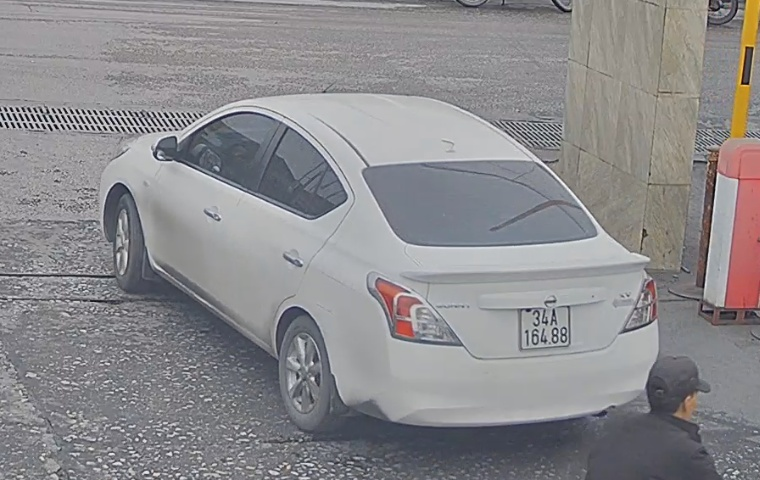vehicle plate: (514, 301, 576, 357)
